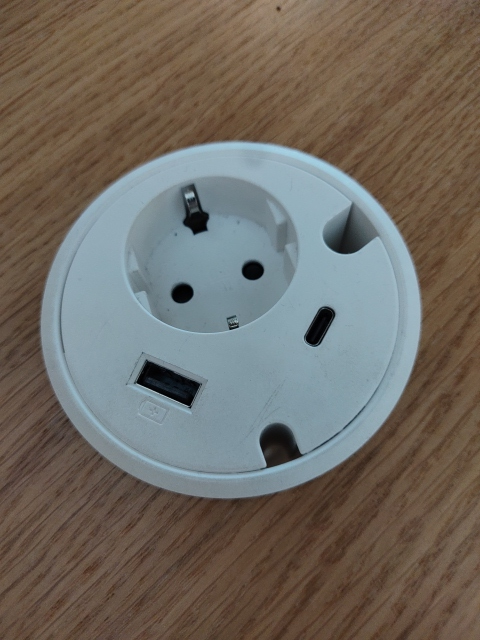USB: (135, 359, 202, 409)
USB-C: (303, 302, 336, 347)
